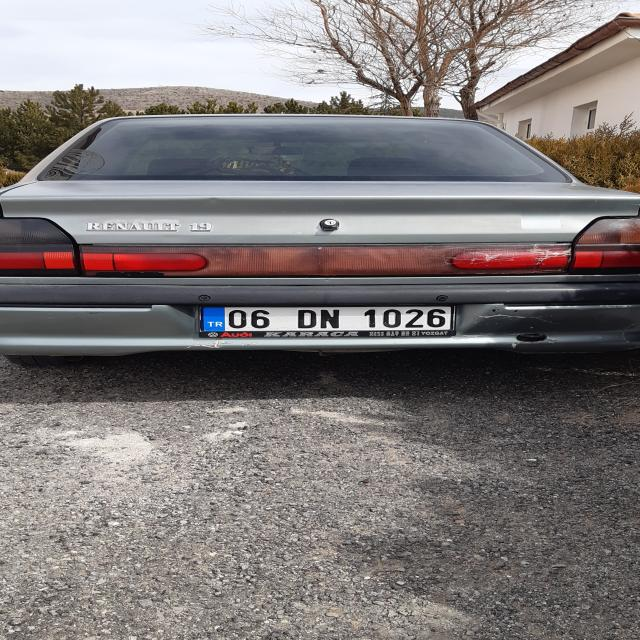plate: (200, 306, 453, 332)
